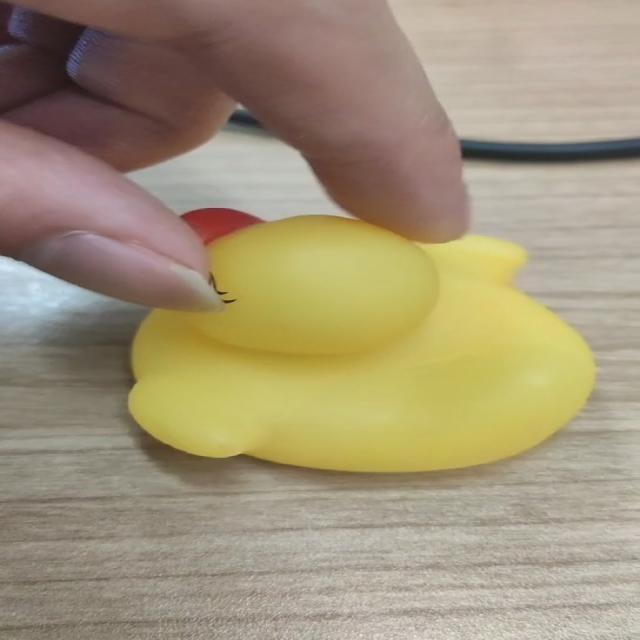rubber-duck: (128, 215, 593, 470)
